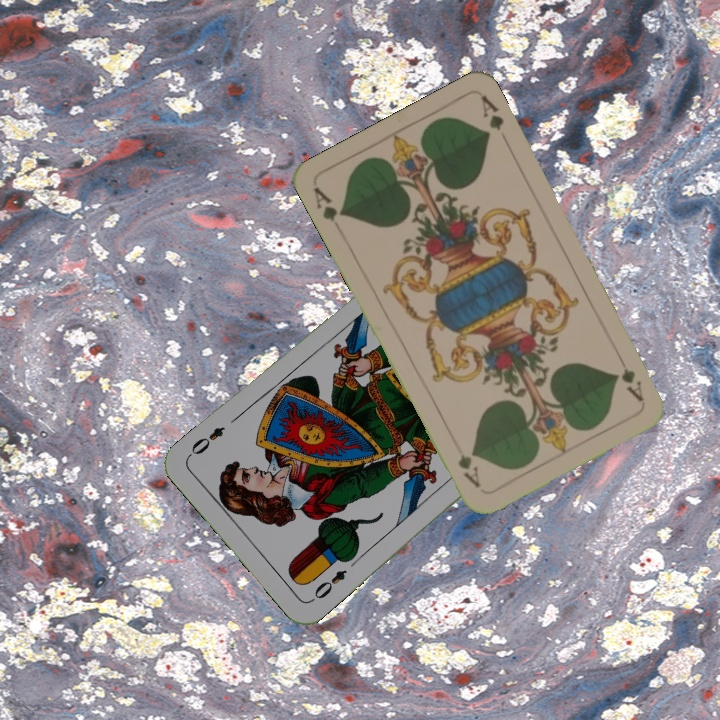EO: (307, 565, 350, 605)
GA: (613, 350, 647, 404), (309, 183, 349, 224)
